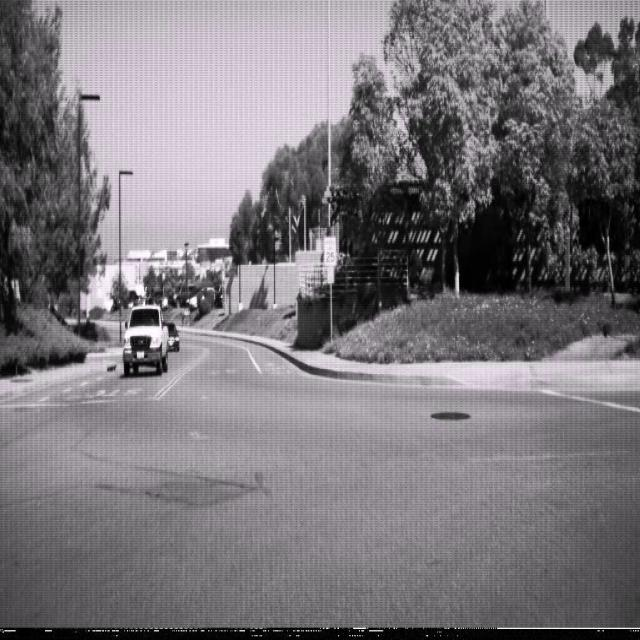speedLimit25: (324, 237, 336, 266)
